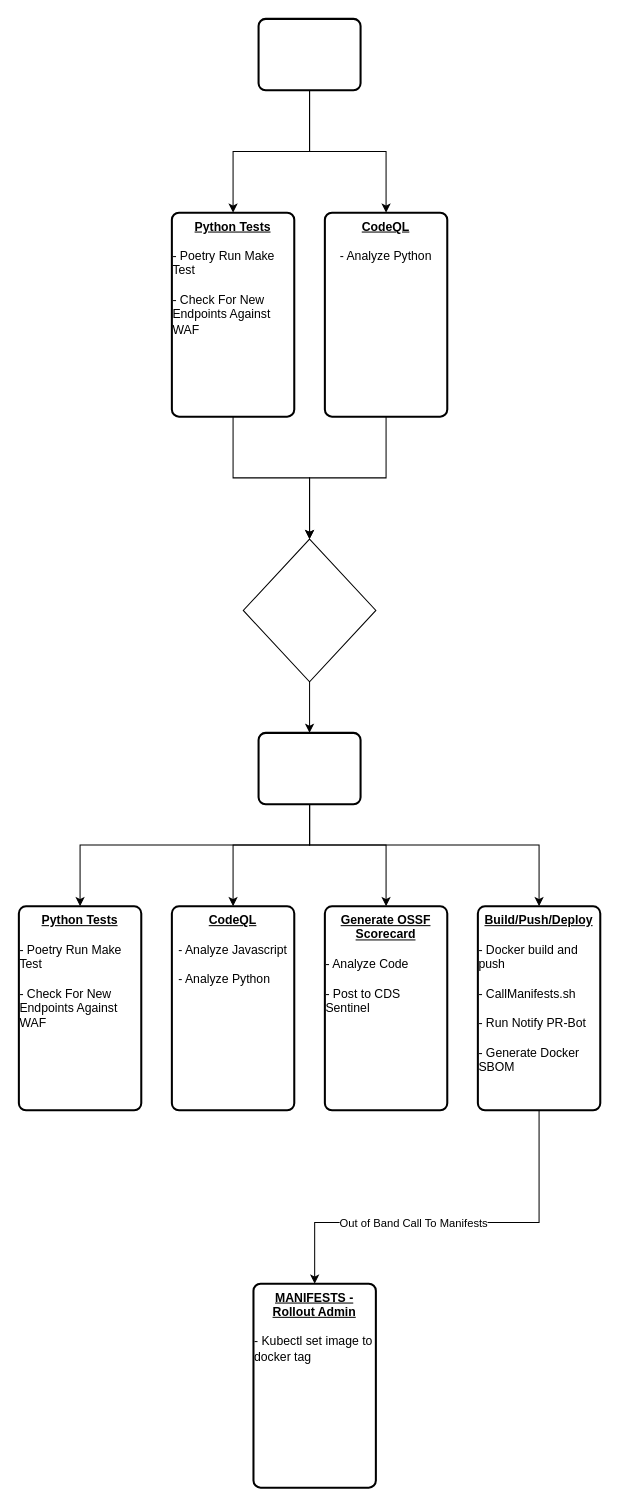
Image size: 618x1506. Some labels were removed from this diagram. The centre of each missing label's shape, as x and y in pixels:
"Merge To Main" goes at [309,768].
"Pull Request" goes at [309,54].
"Tests Passed and Approved?" goes at [309,610].
